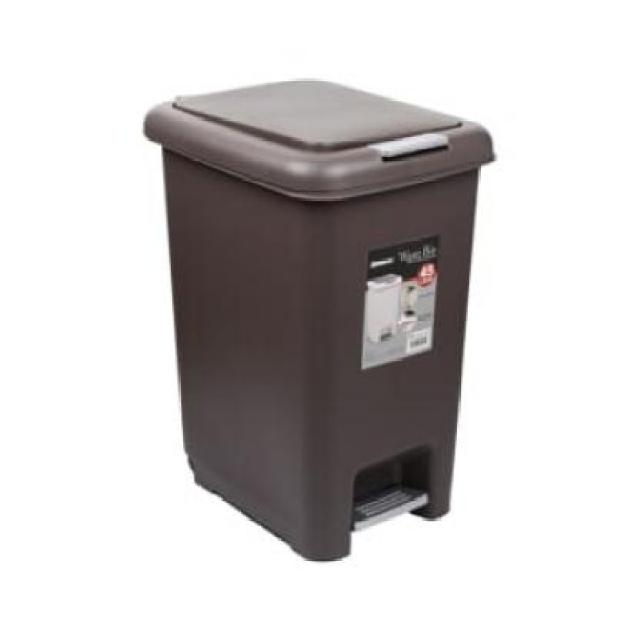garbage container: (124, 66, 505, 569)
